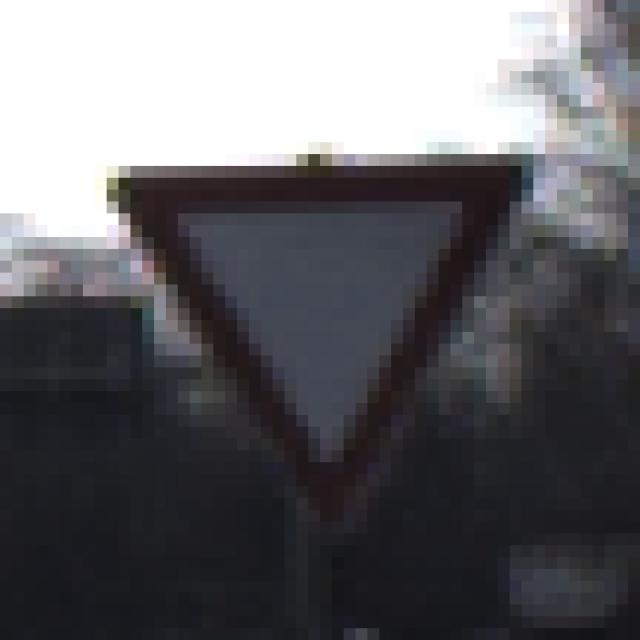Give Way: (72, 72, 582, 582)
